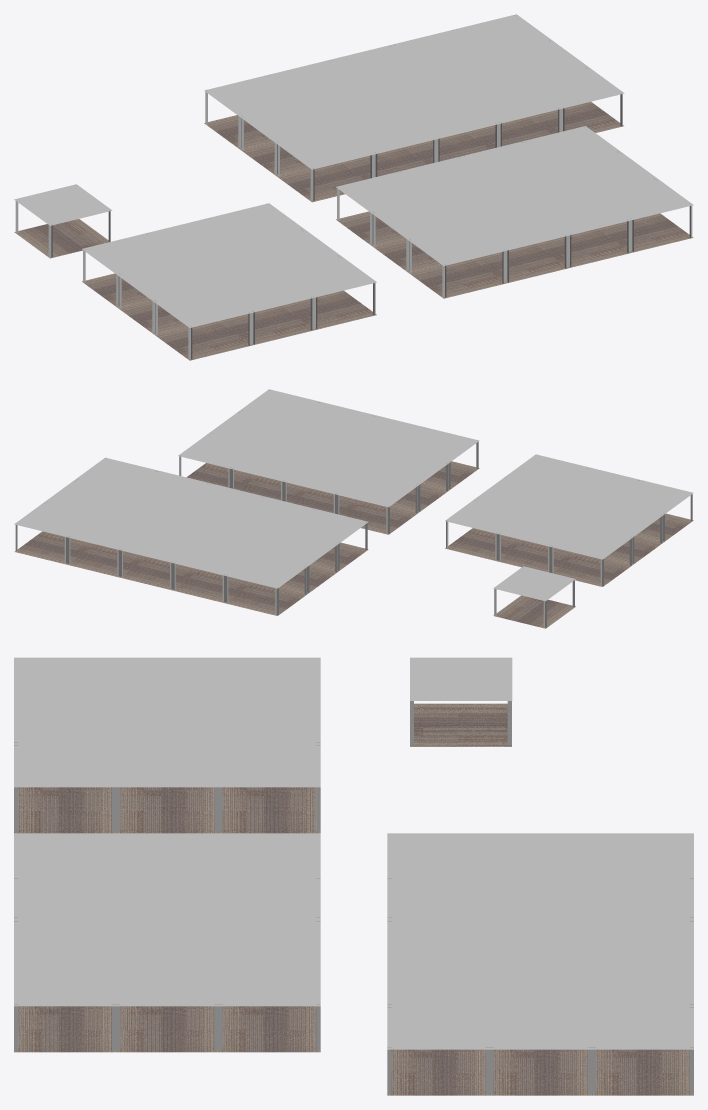
Rendered from ODC_V3.fbx.
3 renders of one model, top to bottom at view 1: azimuth 30°, elevation 25°; view 2: azimuth 150°, elevation 25°; view 3: azimuth 270°, elevation 25°, orthographic. The views are drawn at different scales.
Parts seen in each view (by area): view 1: Ceiling8, Ceiling7, Ceiling, Floor8, Floor9, Floor1, Ceiling1, Floor2; view 2: Ceiling8, Ceiling7, Ceiling, Floor9, Floor8, Floor1, Ceiling1, Floor2; view 3: Ceiling8, Ceiling7, Ceiling, Floor1, Floor8, Floor9, Ceiling1, Floor2.
Part boxes in pixels (x1,y1,x2,y2): Ceiling8: (204, 14, 624, 169); Ceiling7: (336, 126, 693, 265); Ceiling: (82, 203, 376, 327); Floor8: (336, 211, 693, 298); Floor9: (204, 102, 623, 202); Floor1: (82, 273, 376, 360); Ceiling1: (14, 184, 112, 225); Floor2: (14, 219, 108, 258); Ceiling8: (14, 457, 368, 588); Ceiling7: (178, 389, 479, 507); Ceiling: (445, 454, 693, 559); Floor9: (14, 531, 368, 615); Floor8: (186, 461, 479, 534); Floor1: (445, 513, 693, 586); Ceiling1: (493, 566, 575, 601); Floor2: (493, 595, 575, 628); Ceiling8: (387, 833, 693, 1049); Ceiling7: (14, 833, 320, 1006); Ceiling: (14, 657, 320, 787); Floor1: (14, 787, 320, 833); Floor8: (14, 1006, 320, 1052); Floor9: (387, 1049, 693, 1095); Ceiling1: (410, 657, 512, 700); Floor2: (410, 703, 511, 746).
Bounding box in the file's own units: 5443 × 300 × 3991.
